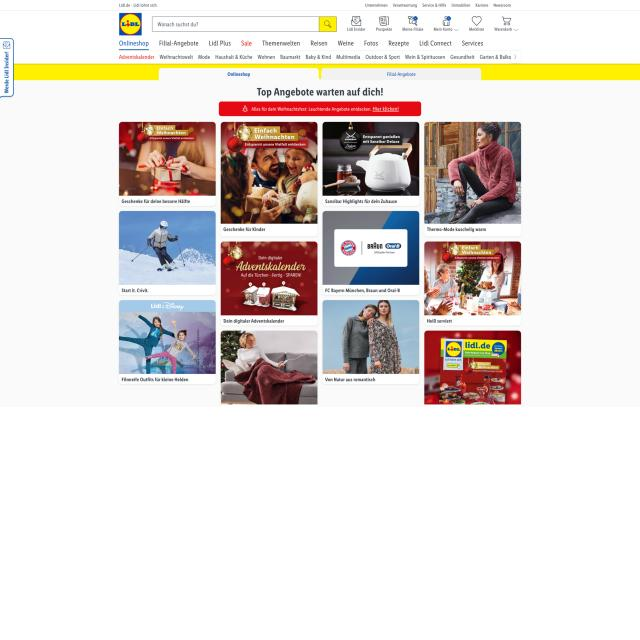input: (152, 16, 338, 33)
logo: (119, 12, 142, 36)
navigation: (118, 52, 512, 62), (116, 40, 485, 48), (364, 2, 512, 10)
